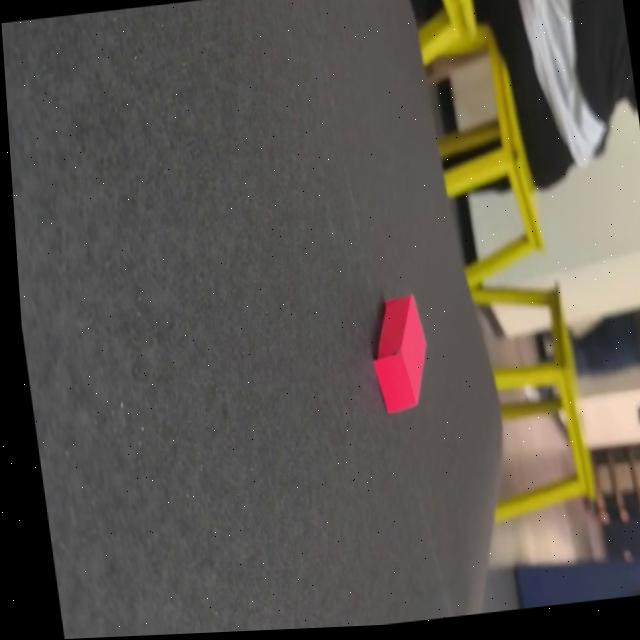red block: (364, 289, 436, 414)
